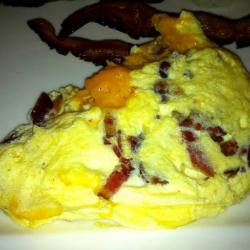omelette: (103, 64, 245, 218)
